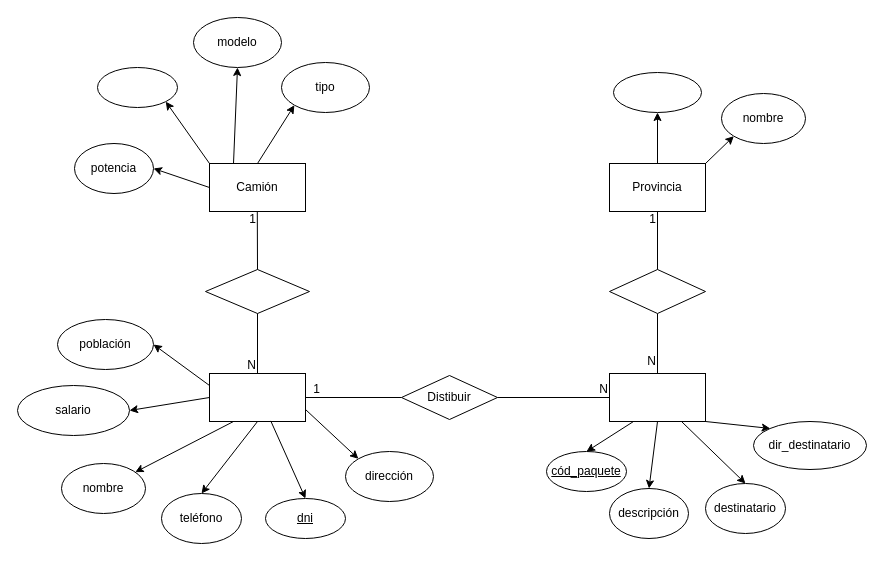
Image size: 884x561. Some labels were removed from this diagram. Here are the shapes that lost their labels. From the top down, the centre of each, then its label:
At [137,87]: "matrícula".
At [657,92]: "cód_provincia".
At [257,291]: "Conducir".
At [657,291]: "Llegar".
At [257,397]: "Camionero".
At [657,397]: "Paquete".
